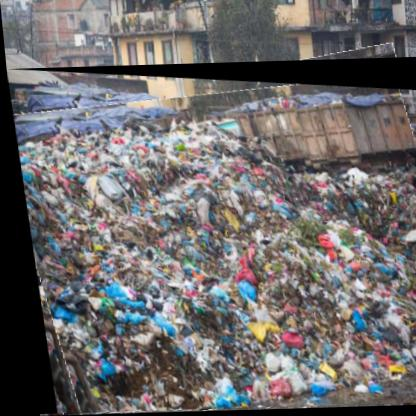Garbage: (6, 60, 416, 416)
